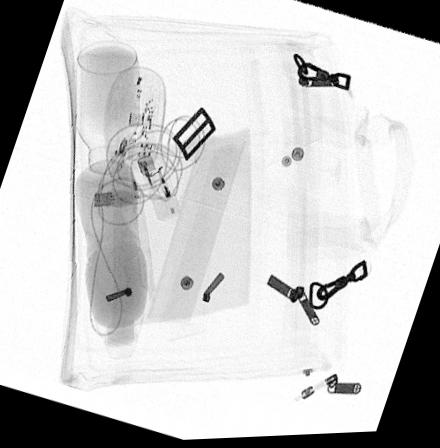Lighter: (137, 153, 180, 224)
